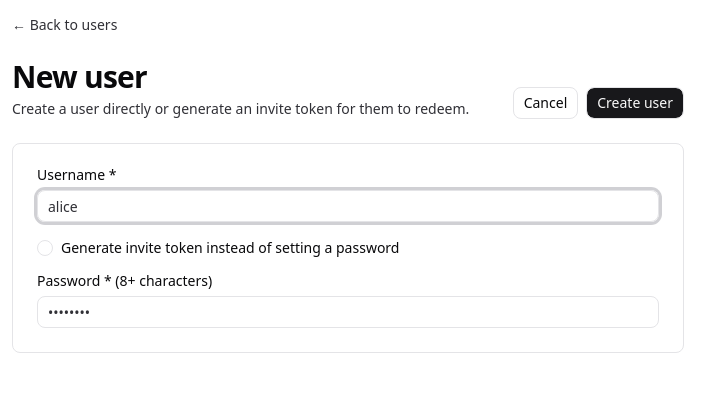
NewUserPage (/admin/users/new) › clears the username error when the operator starts typing
The image size is (704, 418).
Click the button "Create user": [635, 103] box top-left (586, 87), bottom-right (684, 119)
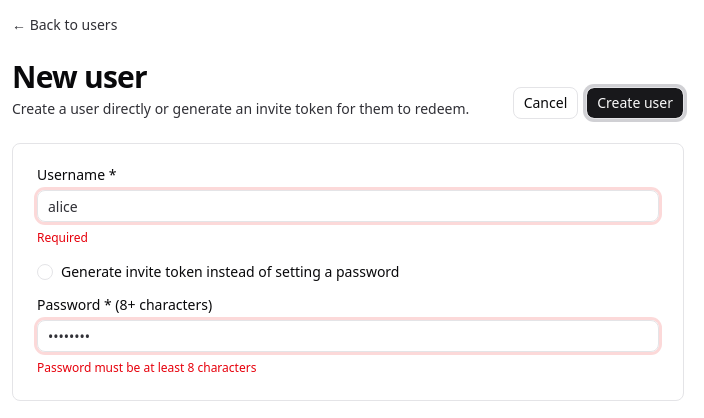
In the field labelled "Username *": [348, 206] box top-left (37, 190), bottom-right (659, 222), type "a"
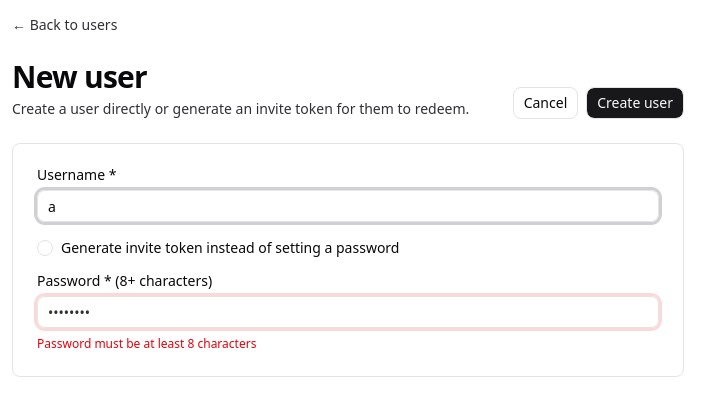
Result: the message with id "username-error" is gone
